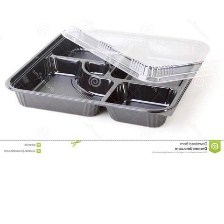plastic_box: (0, 0, 224, 132)
